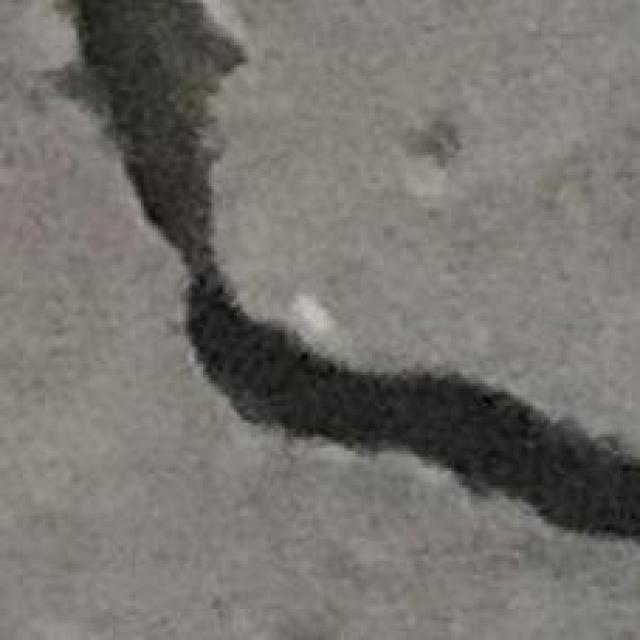Crack: (40, 0, 637, 544)
